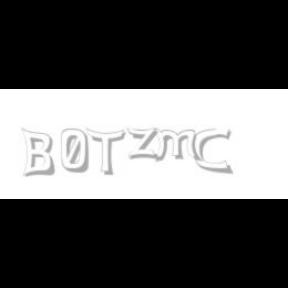0: (60, 128, 92, 174)
B: (21, 128, 55, 178)
C: (195, 128, 232, 174)
T: (85, 128, 125, 176)
m: (151, 128, 203, 162)
z: (126, 128, 162, 160)
